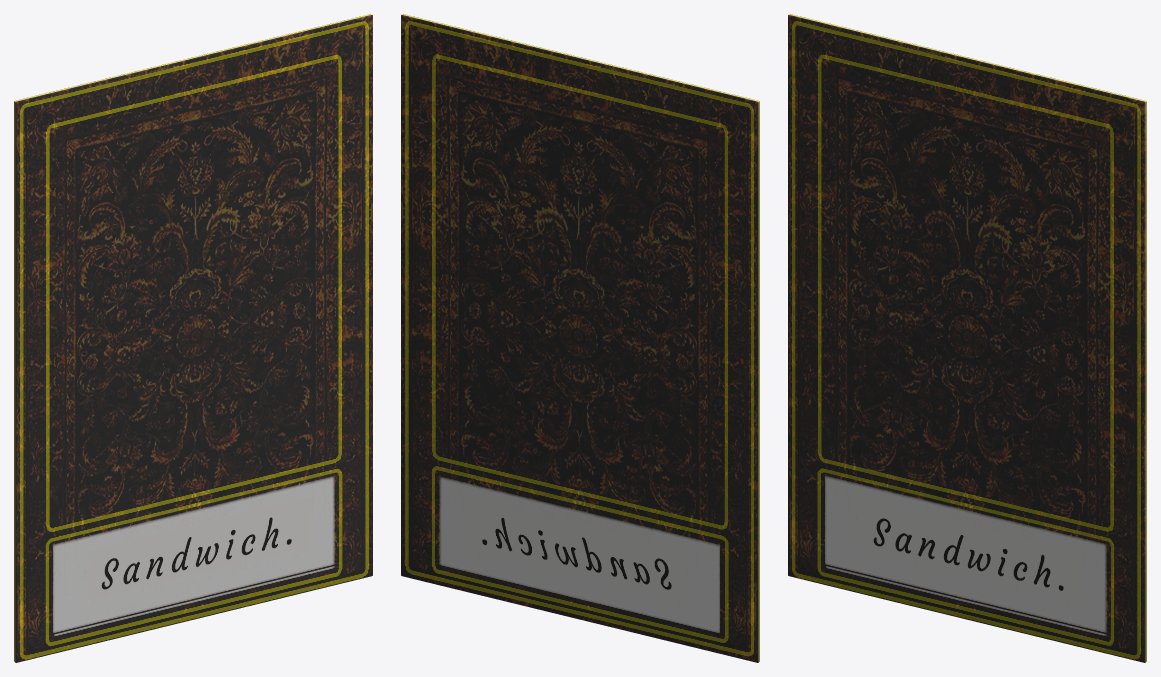
Rendered from card_simple.obj.
The picture shows the model from 3 angles, left to right: view 1: azimuth 30°, elevation 25°; view 2: azimuth 150°, elevation 25°; view 3: azimuth 330°, elevation 25°; orthographic projection.
Visible parts, largest first — view 1: Window, Front, Text, Side, Back; view 2: Back, Side, Front; view 3: Window, Front, Text, Side, Back.
Part boxes in pixels (bbox=[...]): Window: bbox=[52, 62, 336, 522]; Front: bbox=[15, 15, 372, 662]; Text: bbox=[52, 472, 336, 634]; Side: bbox=[14, 14, 371, 662]; Back: bbox=[14, 14, 370, 661]; Back: bbox=[401, 15, 758, 662]; Side: bbox=[402, 14, 759, 662]; Front: bbox=[403, 14, 759, 661]; Window: bbox=[824, 62, 1108, 522]; Front: bbox=[788, 15, 1145, 662]; Text: bbox=[824, 472, 1108, 634]; Side: bbox=[789, 14, 1146, 662]; Back: bbox=[790, 14, 1146, 661].
Bounding box in the file's own units: 200 × 300 × 2.
